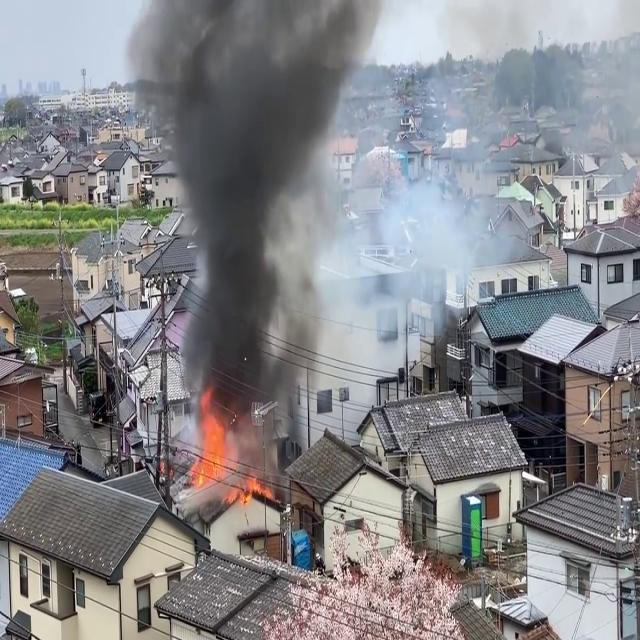Fire: (188, 398, 269, 499)
Smoke: (141, 0, 525, 439)
